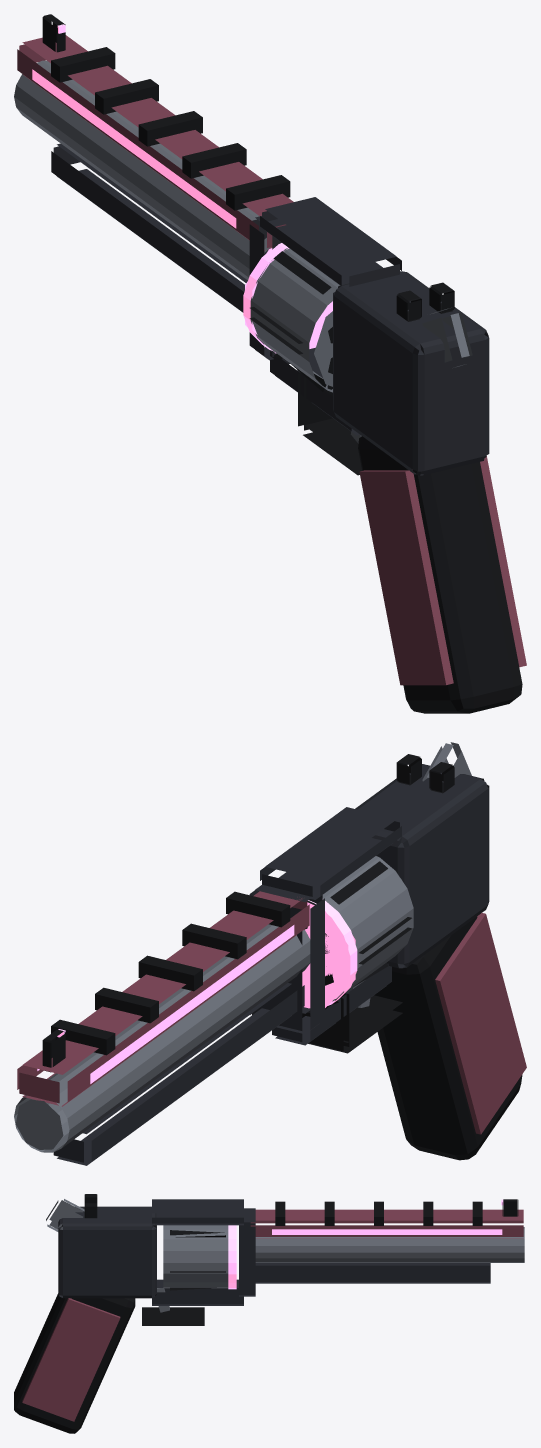
Rendered from revolver_lod.glb.
3 views of the same model, one above another, from view 1: azimuth 30°, elevation 25°; view 2: azimuth 150°, elevation 25°; view 3: azimuth 270°, elevation 25° (orthographic). The views are drawn at different scales.
Parts seen in each view (by area): view 1: Body, Cylinder, IronSights; view 2: Body, Cylinder, IronSights; view 3: Body, Cylinder, IronSights.
Part boxes in pixels (x1,y1,x2,y2): Body: (14,35,526,713); Cylinder: (243,243,339,393); IronSights: (42,14,454,321); Body: (14,742,526,1165); Cylinder: (302,856,413,1008); IronSights: (42,754,454,1072); Body: (14,1199,524,1433); Cylinder: (163,1225,236,1290); IronSights: (84,1194,518,1218).
Bounding box in the file's own units: 0.045 × 0.1528 × 0.3119.
